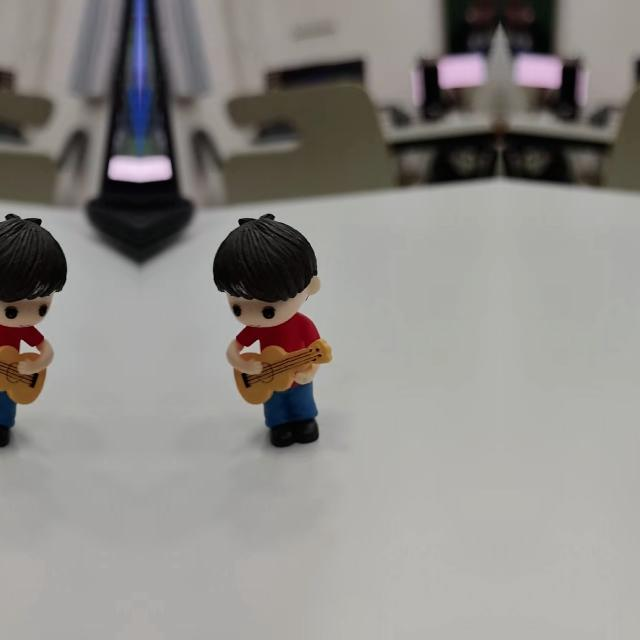man cloth: (238, 313, 320, 351), (0, 313, 42, 351)
man head: (212, 212, 322, 331), (0, 211, 68, 330)
trousers: (258, 378, 322, 444), (0, 377, 22, 444)
